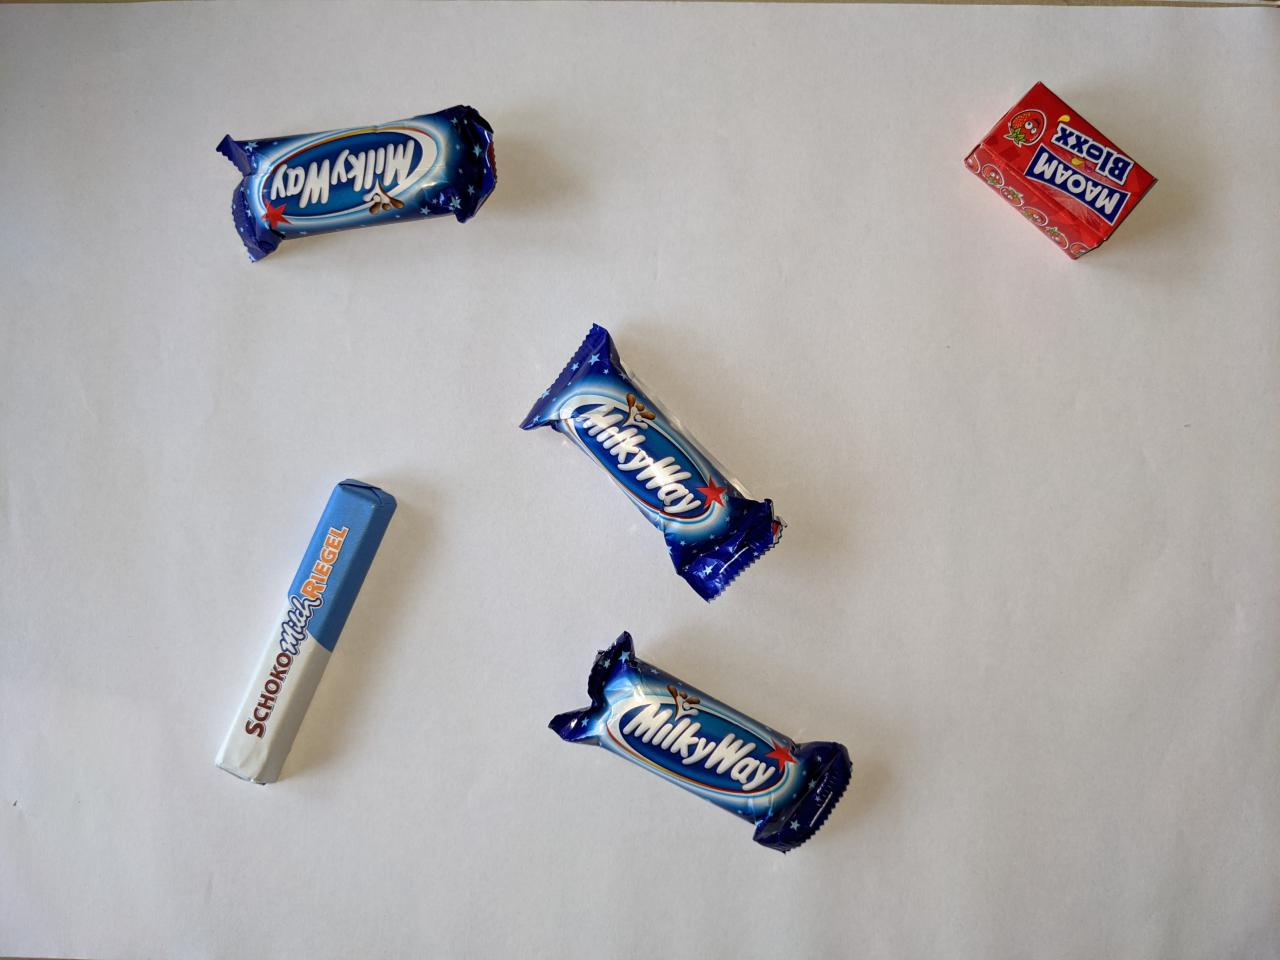MAOAM: (958, 76, 1167, 268)
MilkyWay: (511, 318, 793, 610), (542, 623, 861, 861), (208, 98, 502, 269)
Schokoriegel: (205, 470, 403, 793)
